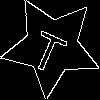T: (26, 21, 73, 76)
